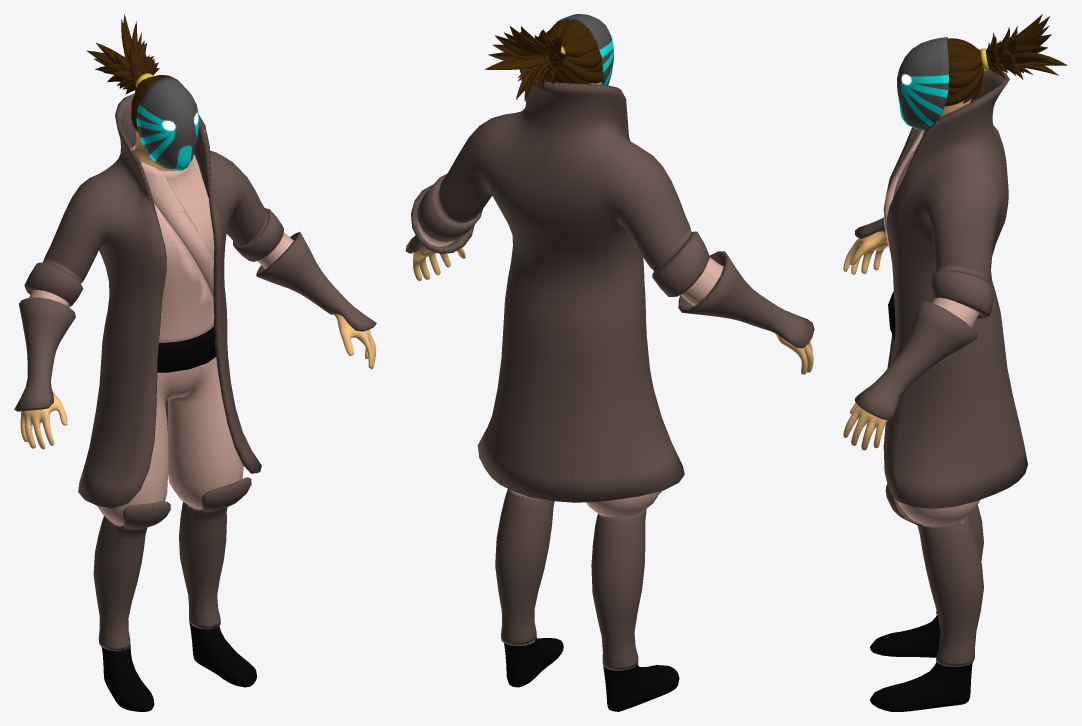
File: Shin.fbx
The picture shows the model from 3 angles, left to right: view 1: azimuth 30°, elevation 25°; view 2: azimuth 150°, elevation 25°; view 3: azimuth 270°, elevation 25°; orthographic projection. The views are drawn at different scales.
Parts seen in each view (by area): view 1: Greaves; view 2: Greaves; view 3: Greaves.
Part boxes in pixels (x1=…): Greaves: x1=14, y1=14, x2=376, y2=711; Greaves: x1=405, y1=14, x2=814, y2=711; Greaves: x1=843, y1=14, x2=1067, y2=711.
Size of the model in its own units: 113 by 189 by 57.34.
